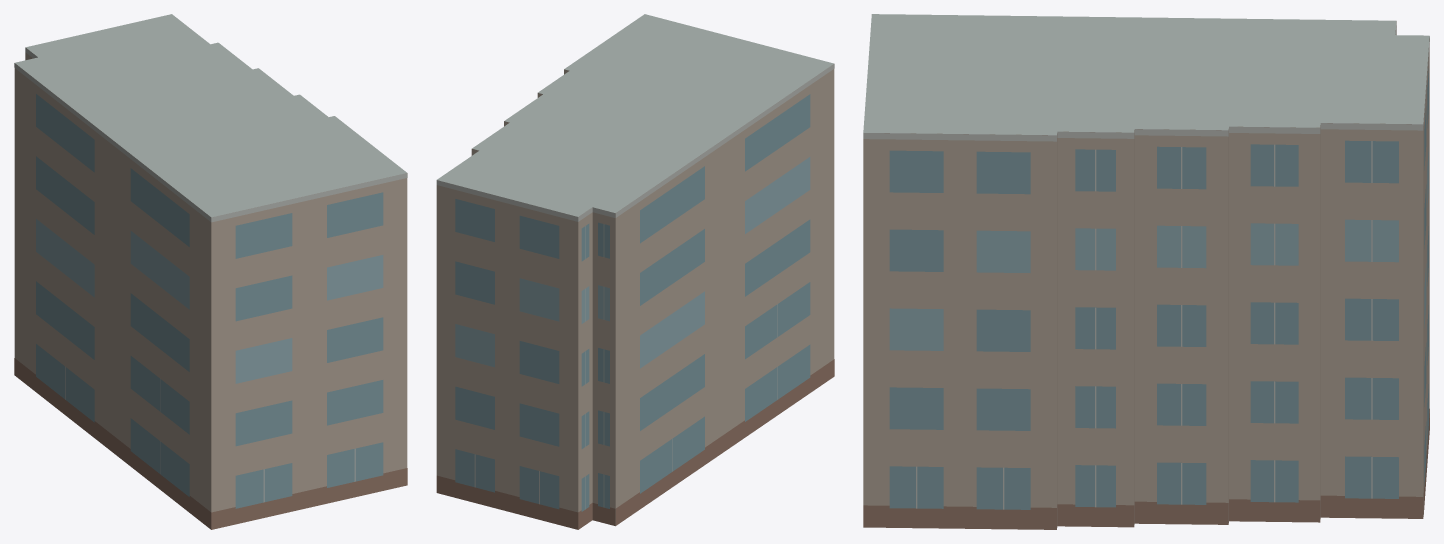
The model's file is survey-upis-32938715.glb.
The picture shows the model from 3 angles, left to right: view 1: azimuth 30°, elevation 25°; view 2: azimuth 150°, elevation 25°; view 3: azimuth 270°, elevation 25°; orthographic projection. The views are drawn at different scales.
Parts seen in each view (by area): view 1: survey-upis-32938715.tmp; view 2: survey-upis-32938715.tmp; view 3: survey-upis-32938715.tmp.
Boxes of the visible parts, box(x1,y1,x2,y2) form: survey-upis-32938715.tmp: box(14, 14, 407, 529); survey-upis-32938715.tmp: box(436, 14, 834, 529); survey-upis-32938715.tmp: box(863, 14, 1429, 529).
Bounding box in the file's own units: 10.09 × 15.3 × 19.91.
